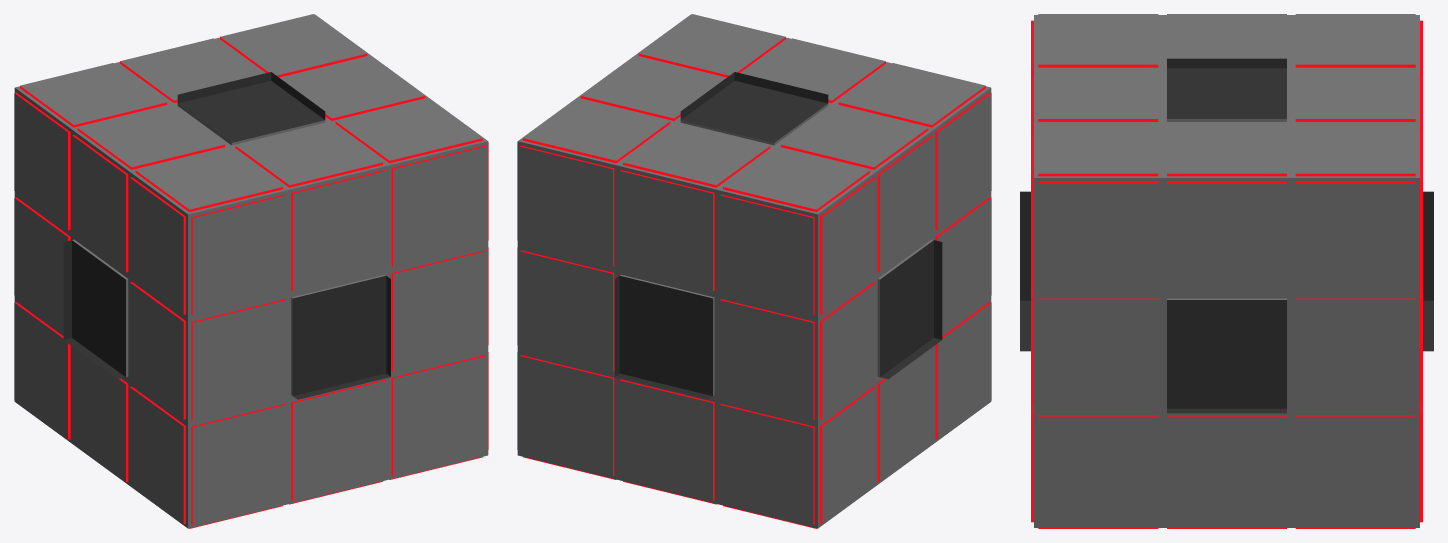
The model's file is CubeGameSimpleMesh.fbx.
3 renders of one model, left to right at view 1: azimuth 30°, elevation 25°; view 2: azimuth 150°, elevation 25°; view 3: azimuth 270°, elevation 25°, orthographic. The views are drawn at different scales.
Visible parts, largest first — view 1: Cube.005, Cube.001, Cube.011, Cube.006, Cube.004, Cube.012; view 2: Cube, Cube.001, Cube.011, Cube.002, Cube.004, Cube.012; view 3: Cube.007, Cube.011, Cube.008, Cube.012, Cube.002, Cube.006, Cube, Cube.005.
Boxes of the visible parts, <box> form: Cube.005: <box>188,141,488,528</box>; Cube.001: <box>14,88,187,528</box>; Cube.011: <box>15,14,487,214</box>; Cube.006: <box>293,276,390,399</box>; Cube.004: <box>63,240,125,379</box>; Cube.012: <box>177,72,325,142</box>; Cube: <box>517,141,817,528</box>; Cube.001: <box>818,88,991,528</box>; Cube.011: <box>518,14,990,214</box>; Cube.002: <box>615,276,712,399</box>; Cube.004: <box>880,240,942,379</box>; Cube.012: <box>680,72,828,142</box>; Cube.007: <box>1034,178,1419,527</box>; Cube.011: <box>1034,14,1419,177</box>; Cube.008: <box>1167,300,1286,413</box>; Cube.012: <box>1167,58,1286,118</box>; Cube.002: <box>1423,191,1433,351</box>; Cube.006: <box>1020,191,1030,351</box>; Cube: <box>1420,20,1422,522</box>; Cube.005: <box>1031,20,1033,522</box>.
Bounding box in the file's own units: 965 × 965 × 965.
